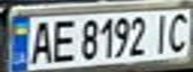1: (96, 15, 115, 58)
2: (127, 12, 151, 56)
8: (78, 16, 100, 60)
9: (112, 14, 133, 58)
A: (24, 17, 57, 65)
C: (163, 10, 193, 54)
E: (48, 17, 78, 63)
I: (148, 11, 172, 55)
